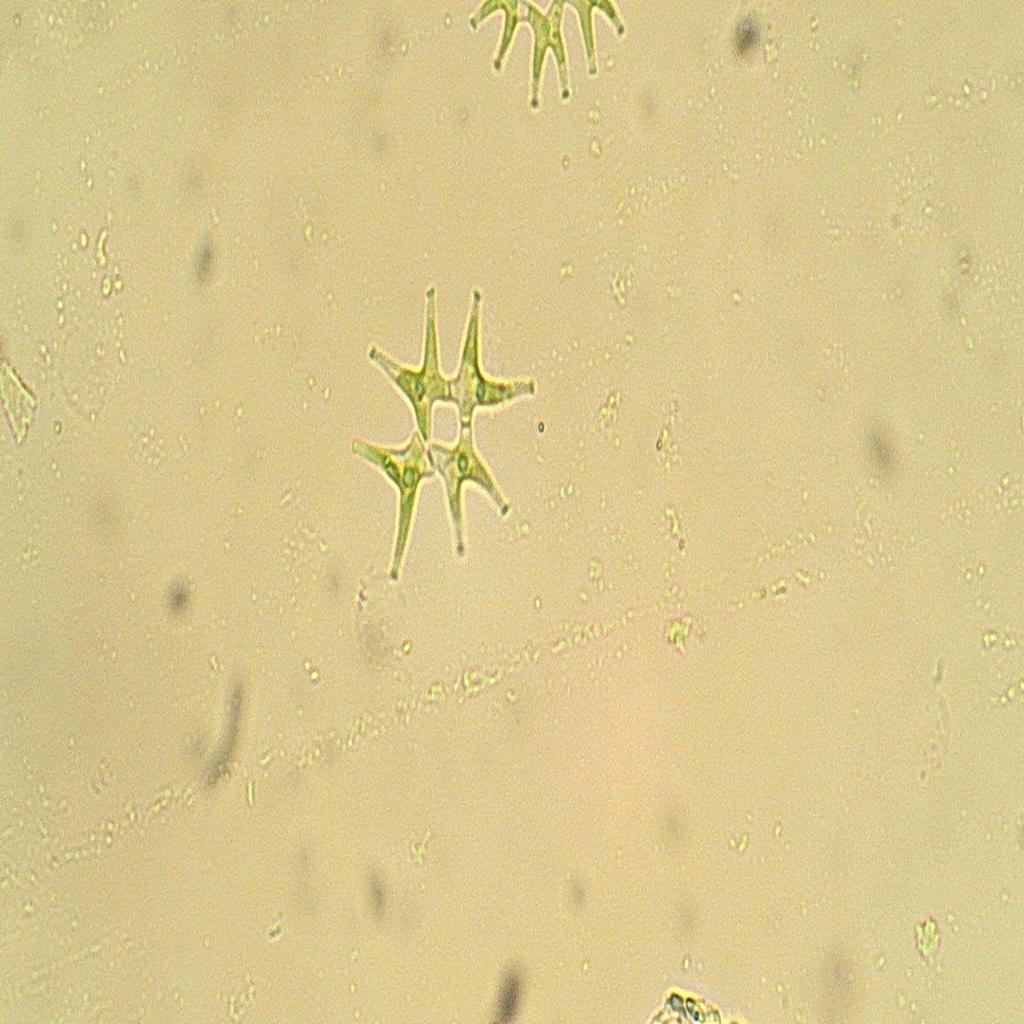Pediastrum_CF: (332, 267, 552, 600)
